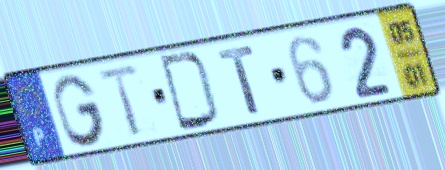2: (335, 20, 399, 104)
6: (285, 33, 337, 106)
D: (156, 50, 223, 134)
G: (50, 71, 109, 149)
T: (96, 61, 146, 140), (215, 42, 265, 118)
